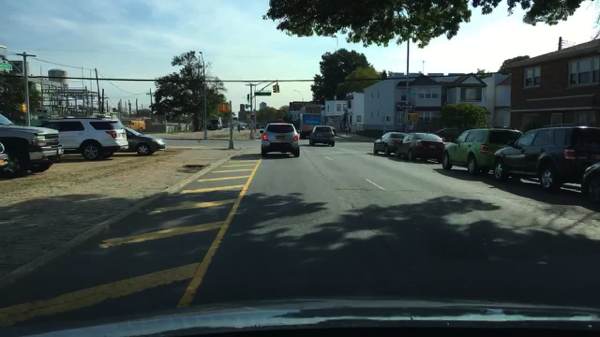car: (491, 127, 599, 189), (32, 116, 129, 162), (0, 111, 62, 174), (443, 127, 524, 175), (117, 124, 166, 157), (393, 132, 446, 162), (259, 122, 301, 157), (374, 132, 411, 156), (579, 164, 599, 206), (309, 125, 335, 147), (121, 118, 146, 132), (0, 142, 11, 172), (330, 125, 338, 136), (239, 124, 245, 130), (257, 124, 265, 128)
traffic light: (15, 103, 30, 112), (219, 104, 231, 112), (408, 113, 420, 121), (272, 84, 280, 93), (245, 115, 253, 121)
traffic sign: (0, 63, 14, 72), (401, 105, 415, 110), (255, 93, 272, 96)
truck: (299, 113, 323, 139), (208, 118, 222, 129)
